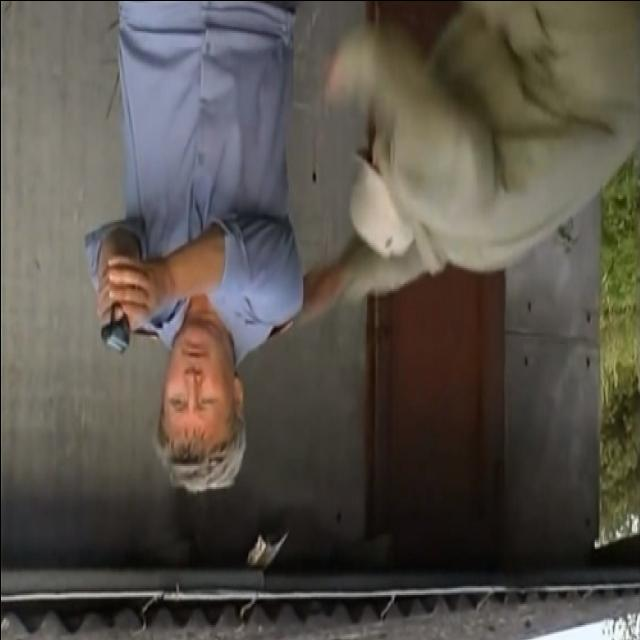weapons: (90, 233, 144, 379)
